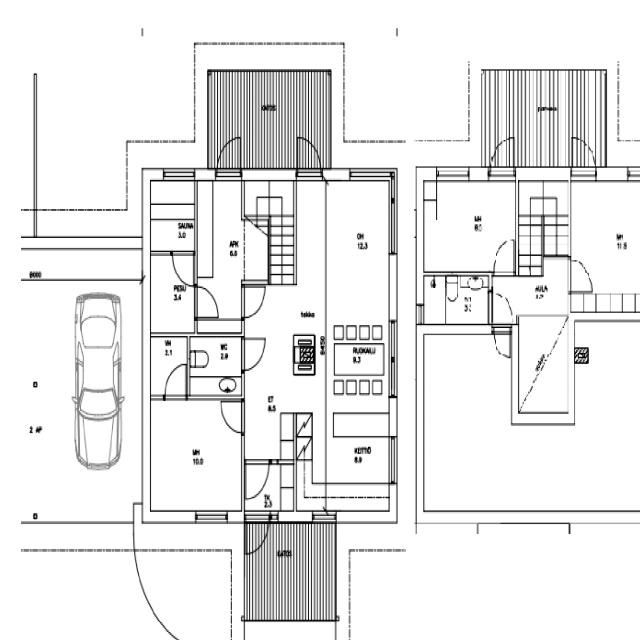door: (490, 130, 514, 182), (572, 130, 596, 182), (297, 132, 321, 182), (217, 133, 241, 181), (246, 512, 269, 558), (246, 461, 269, 499), (172, 251, 194, 288), (489, 292, 514, 324), (165, 363, 186, 400), (241, 340, 265, 370), (241, 288, 265, 318), (221, 403, 244, 433), (195, 288, 218, 318), (569, 261, 592, 291), (495, 242, 515, 276), (494, 324, 510, 360)
